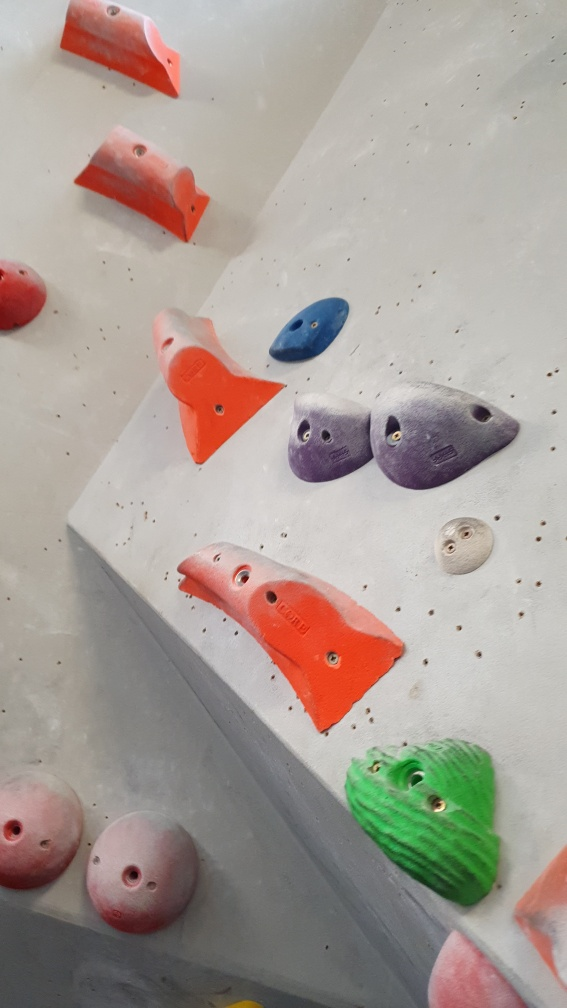Crimp: (272, 299, 352, 365)
Jug: (345, 734, 508, 907), (366, 376, 523, 493), (281, 386, 378, 484)
Pinch: (174, 542, 406, 739), (152, 299, 287, 470), (74, 125, 212, 243), (55, 1, 186, 105)
Sloper: (84, 809, 206, 939), (1, 771, 90, 894)
